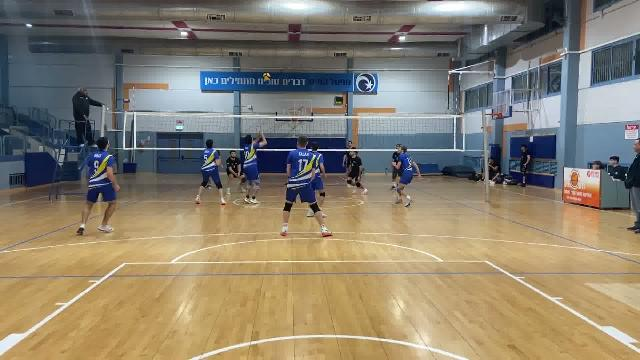ball: (259, 71, 273, 82)
